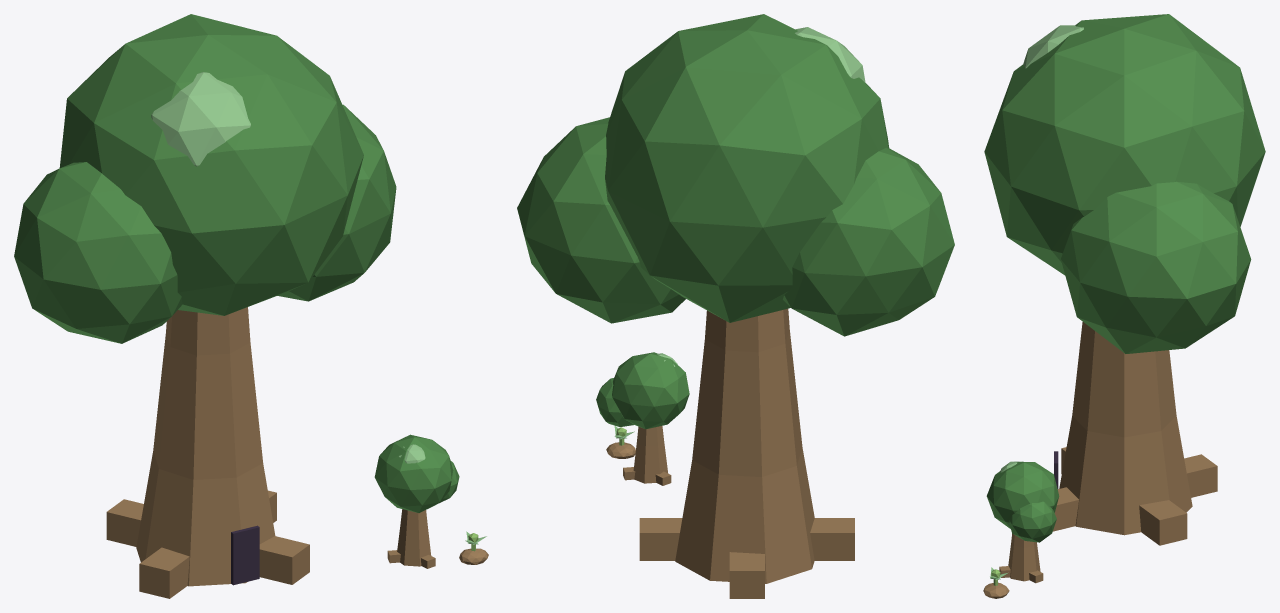
The model's file is forest-g2.glb.
The picture shows the model from 3 angles, left to right: view 1: azimuth 30°, elevation 25°; view 2: azimuth 150°, elevation 25°; view 3: azimuth 270°, elevation 25°; orthographic projection. The views are drawn at different scales.
Parts seen in each view (by area): view 1: forest-g2; view 2: forest-g2; view 3: forest-g2.
Boxes of the visible parts, x1,y1,x2,y2 form: forest-g2: (14,14,488,598); forest-g2: (517,14,954,598); forest-g2: (983,14,1265,598).
Bounding box in the file's own units: 2.08 × 2.63 × 1.41.
